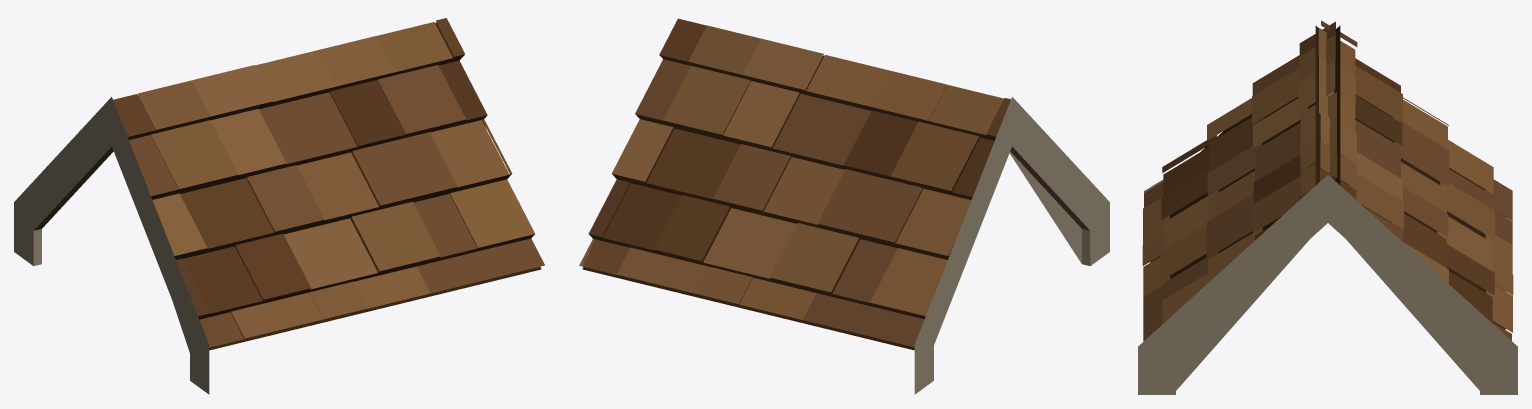
File: roof-high-gable-top-wood.glb
3 views of the same model, side by side, from view 1: azimuth 30°, elevation 25°; view 2: azimuth 150°, elevation 25°; view 3: azimuth 270°, elevation 25° (orthographic). The views are drawn at different scales.
Parts seen in each view (by area): view 1: roof-high-gable-top-wood; view 2: roof-high-gable-top-wood; view 3: roof-high-gable-top-wood.
Part boxes in pixels (left/top/right/bottom): roof-high-gable-top-wood: left=14, top=18, right=544, bottom=394; roof-high-gable-top-wood: left=579, top=18, right=1109, bottom=394; roof-high-gable-top-wood: left=1138, top=20, right=1517, bottom=394.
Size of the model in its own units: 1 by 0.6407 by 1.
